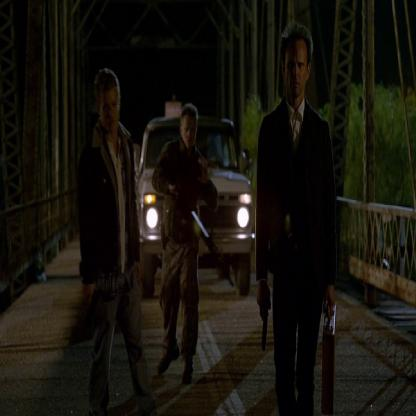Guns: (172, 180, 236, 293), (258, 294, 272, 360), (84, 285, 100, 335)
